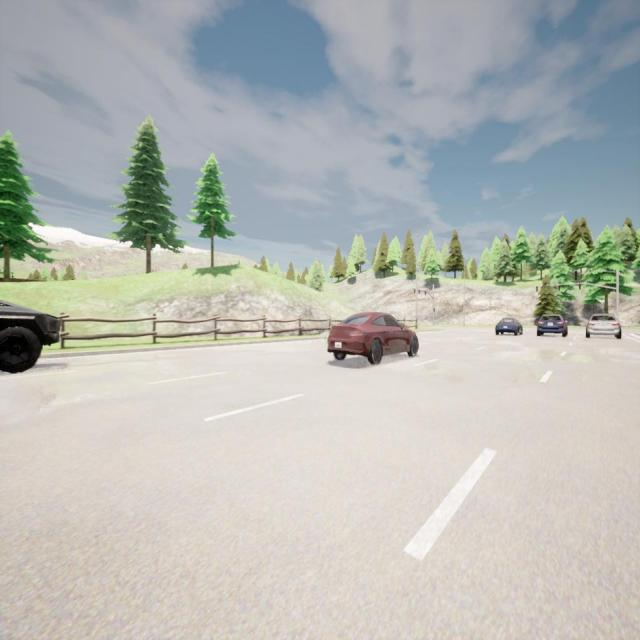Vehicle: (328, 312, 418, 363), (0, 299, 60, 372), (586, 314, 622, 338), (536, 315, 568, 336), (495, 318, 523, 335)
traffic_light: (558, 285, 560, 291), (579, 284, 581, 290), (433, 308, 435, 313), (418, 290, 420, 295), (536, 287, 537, 292), (414, 289, 415, 294), (425, 291, 426, 296)
